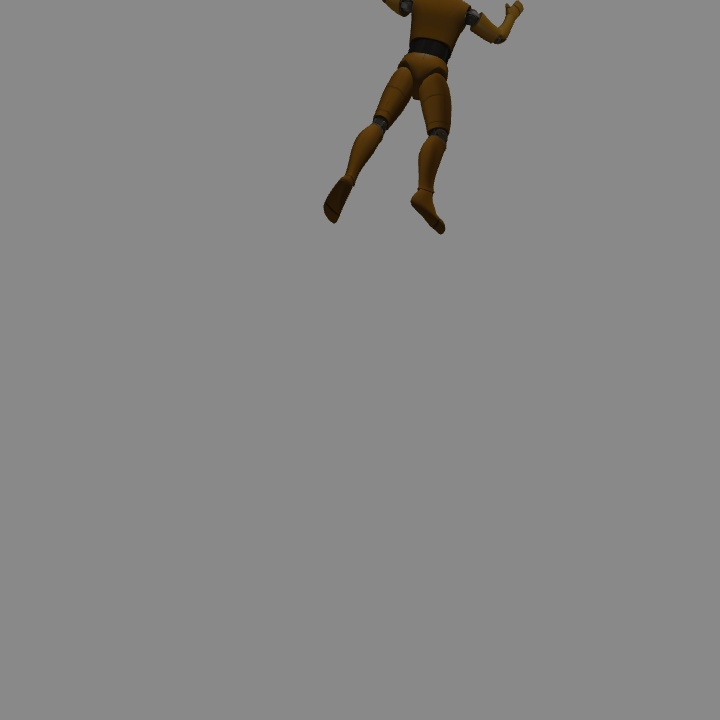victim: (327, 2, 526, 221)
